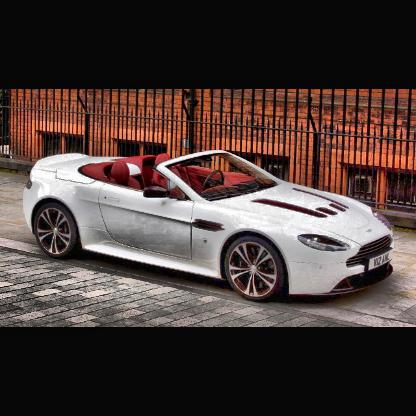Aston Martin V8 Vantage Convertible 2012: (24, 151, 397, 304)
